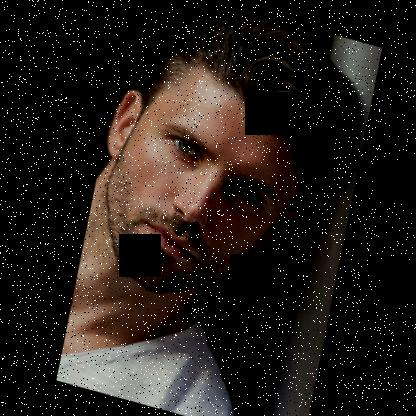Male: (66, 48, 324, 322)
